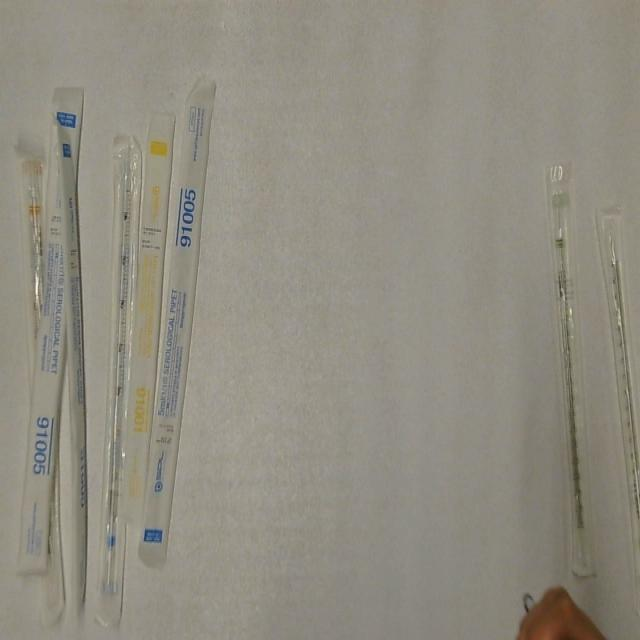Serelogical Pipet 1 mL: (117, 109, 177, 531)
Serelogical Pipet 10 mL: (18, 149, 52, 384)
Serelogical Pipet 2 mL: (542, 152, 598, 580)
Serelogical Pipet 5 mL: (140, 75, 219, 571), (15, 82, 87, 579), (92, 134, 146, 626), (54, 112, 90, 613)
